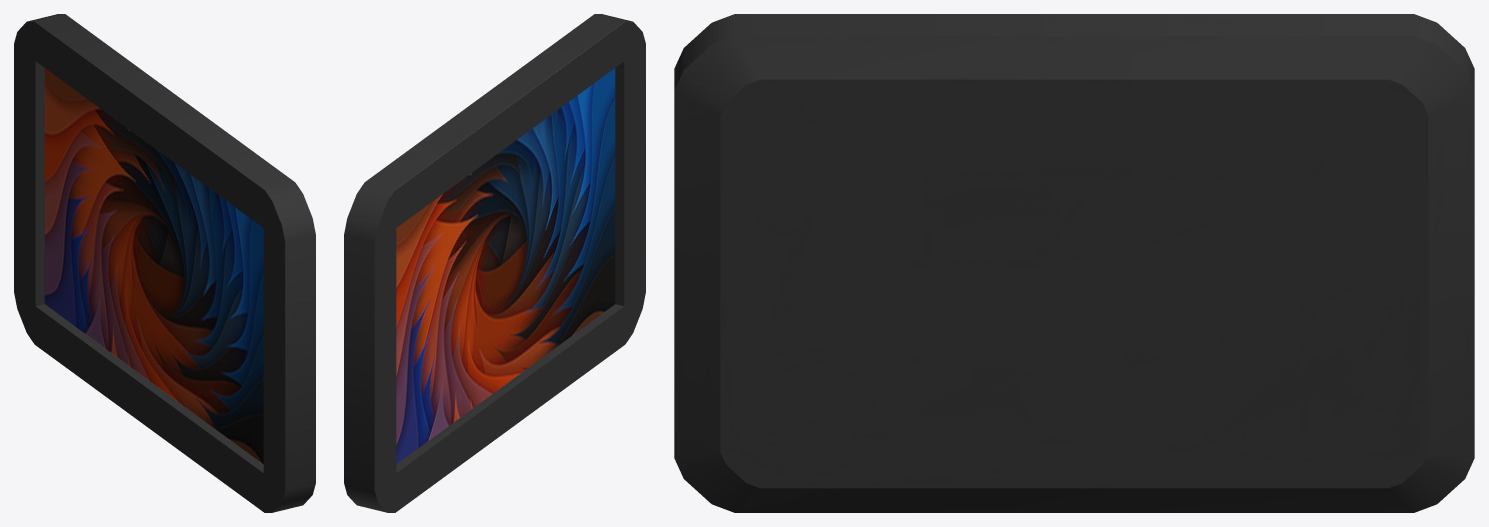
The model's file is Pantalla.obj.
The picture shows the model from 3 angles, left to right: view 1: azimuth 30°, elevation 25°; view 2: azimuth 150°, elevation 25°; view 3: azimuth 270°, elevation 25°; orthographic projection. The views are drawn at different scales.
Parts seen in each view (by area): view 1: Box001; view 2: Box001; view 3: Box001.
Part boxes in pixels (bbox=[...]): Box001: bbox=[14, 14, 315, 512]; Box001: bbox=[344, 14, 645, 512]; Box001: bbox=[674, 14, 1474, 512].
Size of the model in its own units: 0.5112 by 3.6 by 5.48.
